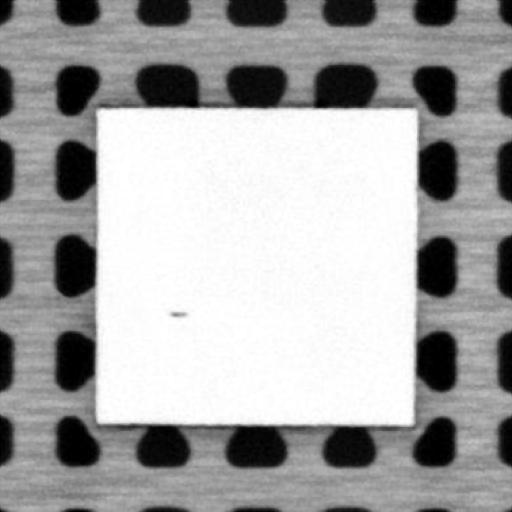DIE_INK: (162, 304, 187, 319)
